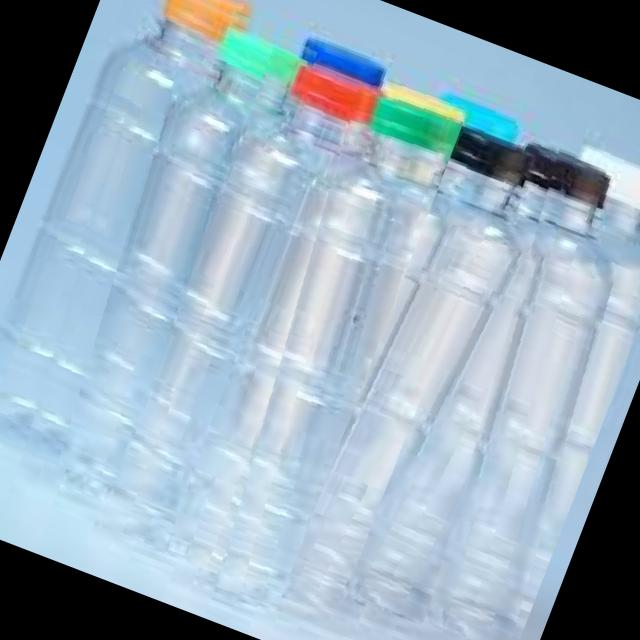plastic bottle: (172, 69, 496, 620), (90, 47, 400, 574), (0, 0, 321, 500), (276, 117, 579, 640), (346, 127, 640, 639), (381, 123, 640, 640), (0, 0, 258, 449)
